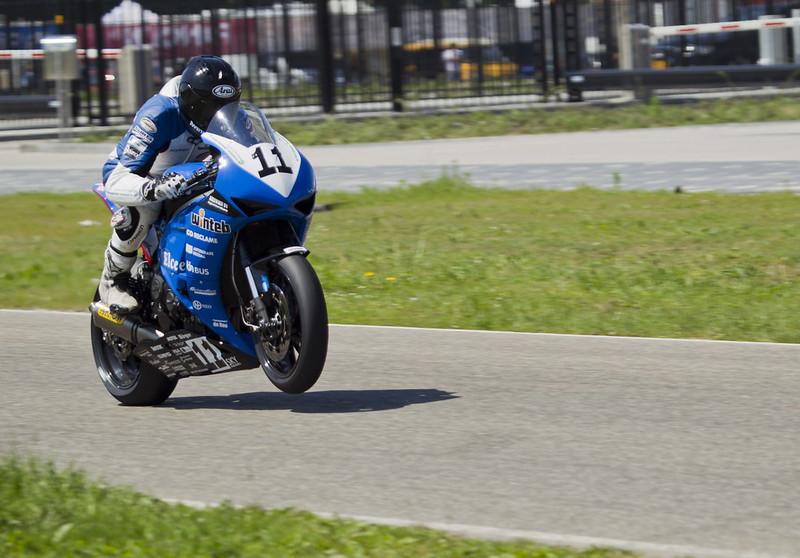helmet: (177, 54, 246, 128)
